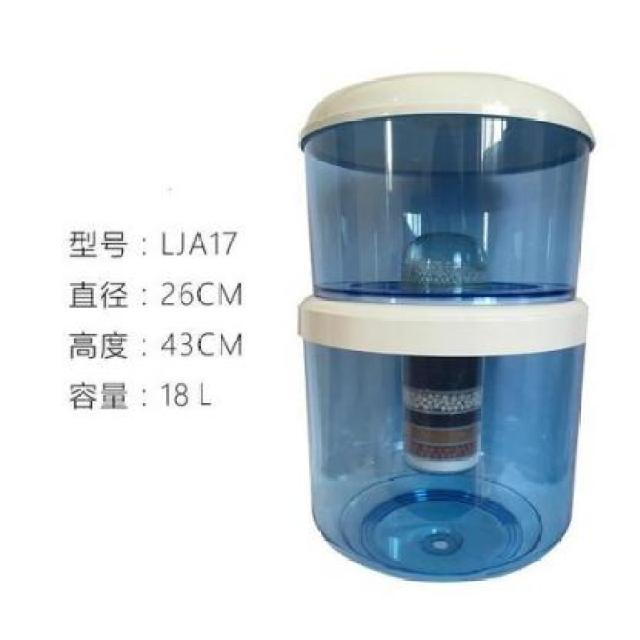coolerbottle: (294, 67, 599, 586)
